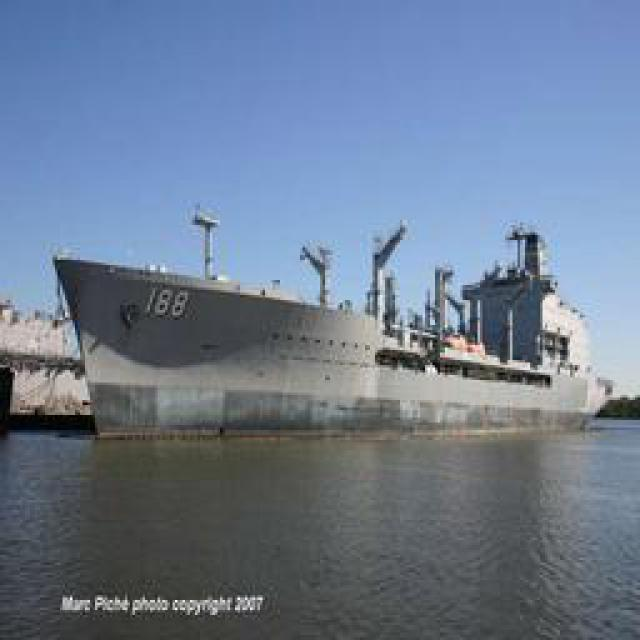Ship: (26, 216, 614, 441)
